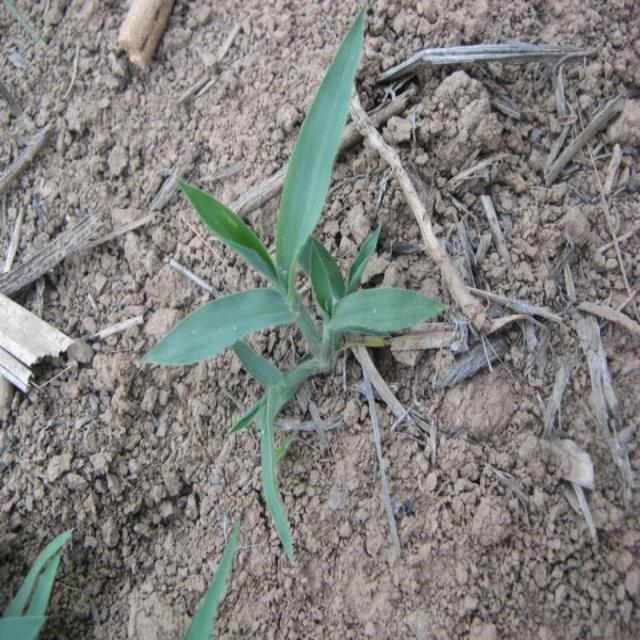bg: (145, 15, 451, 556)
